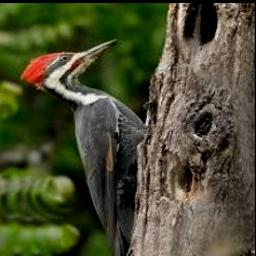Woodpecker: (21, 39, 148, 256)
